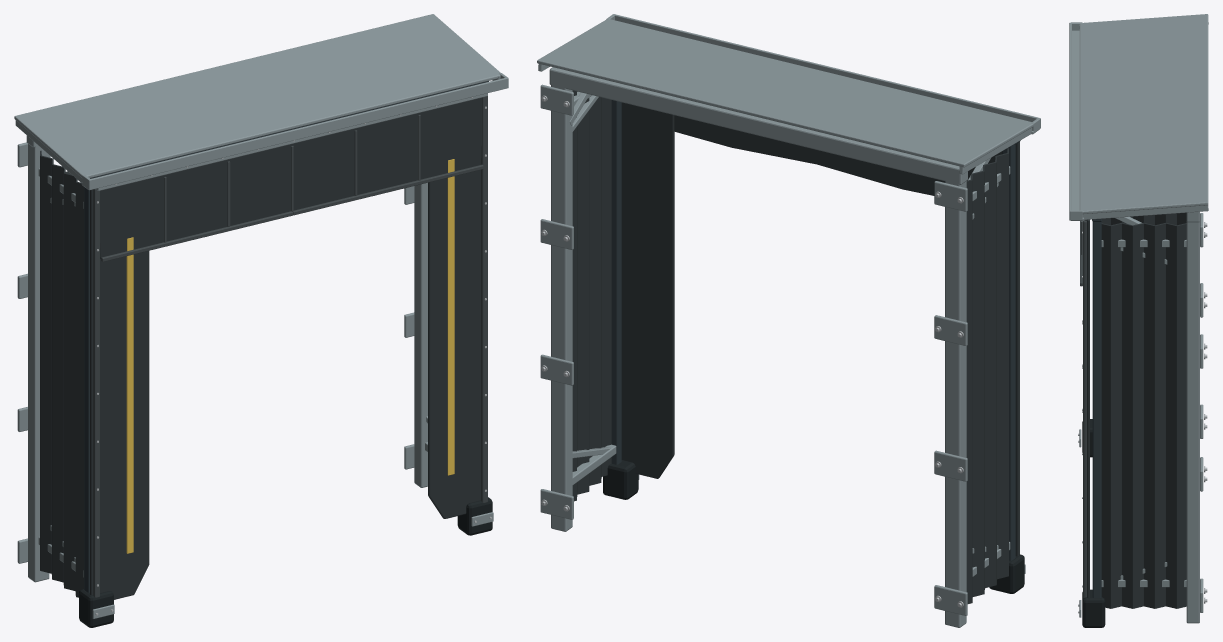
The model's file is city-loading-dock-shelter.glb.
3 renders of one model, left to right at view 1: azimuth 30°, elevation 25°; view 2: azimuth 150°, elevation 25°; view 3: azimuth 270°, elevation 25°, orthographic. The views are drawn at different scales.
Parts seen in each view (by area): view 1: Assembly | Black coated dock-shelter fabric, Assembly | Galvanized rear mounting hardware, Assembly | Reinforced charcoal fabric seams, Assembly | Muted yellow alignment stripes, Assembly | Graphite anodized metal, Assembly | Black EPDM seals; view 2: Assembly | Galvanized rear mounting hardware, Assembly | Black coated dock-shelter fabric, Assembly | Graphite anodized metal, Assembly | Black EPDM seals; view 3: Assembly | Galvanized rear mounting hardware, Assembly | Black coated dock-shelter fabric, Assembly | Graphite anodized metal, Assembly | Reinforced charcoal fabric seams, Assembly | Black EPDM seals, Assembly | Satin stainless fasteners.
Boxes of the visible parts, box(x1,y1,x2,y2) form: Assembly | Black coated dock-shelter fabric: box(40, 97, 481, 599); Assembly | Galvanized rear mounting hardware: box(14, 14, 508, 618); Assembly | Reinforced charcoal fabric seams: box(93, 96, 487, 597); Assembly | Muted yellow alignment stripes: box(126, 159, 454, 553); Assembly | Graphite anodized metal: box(84, 81, 488, 592); Assembly | Black EPDM seals: box(79, 497, 492, 627); Assembly | Galvanized rear mounting hardware: box(537, 14, 1040, 627); Assembly | Black coated dock-shelter fabric: box(572, 90, 1019, 603); Assembly | Graphite anodized metal: box(611, 100, 1020, 560); Assembly | Black EPDM seals: box(603, 460, 1024, 593); Assembly | Galvanized rear mounting hardware: box(1069, 14, 1208, 623); Assembly | Black coated dock-shelter fabric: box(1085, 212, 1186, 608); Assembly | Graphite anodized metal: box(1092, 218, 1102, 597); Assembly | Reinforced charcoal fabric seams: box(1080, 220, 1086, 598); Assembly | Black EPDM seals: box(1082, 419, 1105, 627); Assembly | Satin stainless fasteners: box(1078, 222, 1207, 613).
Size of the model in its own units: 3.3 by 3.5 by 1.03.
